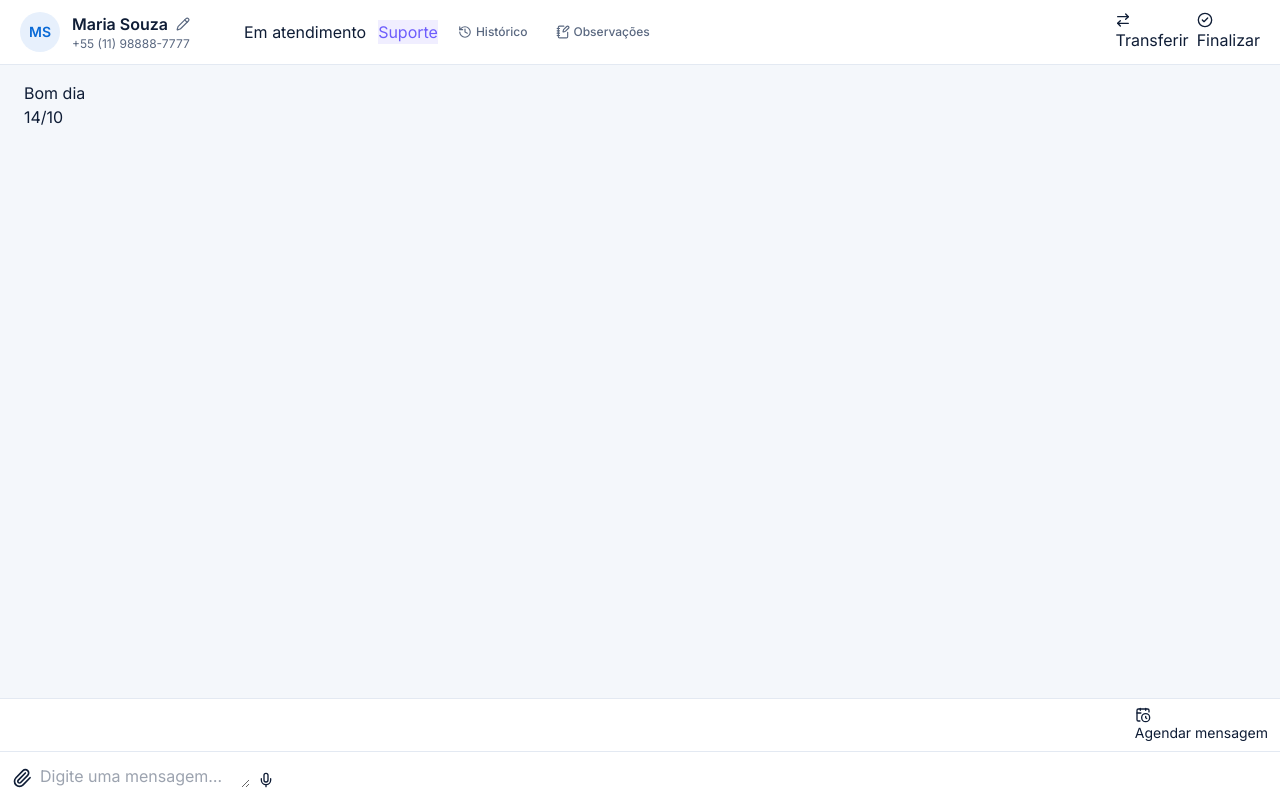
Test case: ChatPanel › marks a failed send and lets the agent retry it
This screenshot has width=1280, height=800.
Check: the text "Bom dia" is shown, box [24,83,85,103]
Type "Teste" into the text box labelled "mensagem".
click(145, 776); type("Teste")  # box [40,764,250,788]
Then press Enter
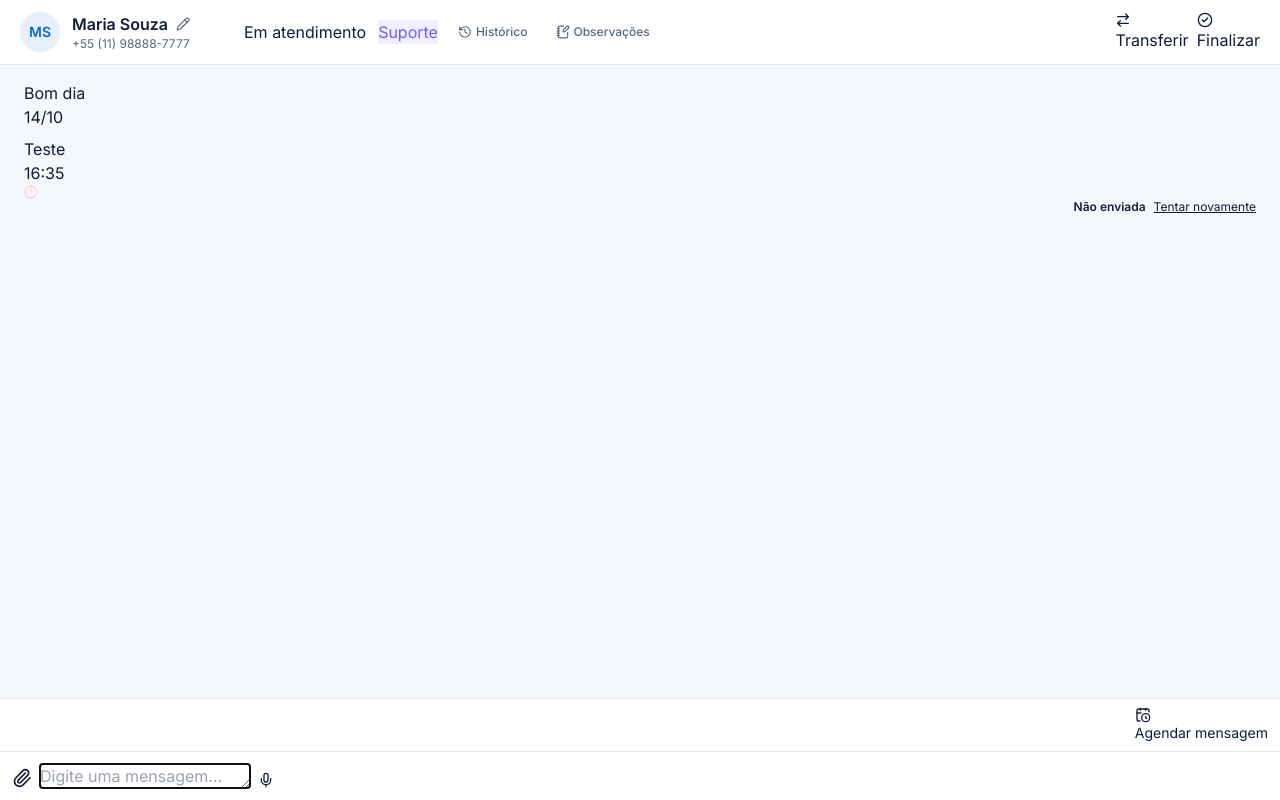
Check: the text "Não enviada" is shown, box [1074,199,1146,215]
Click the button "Tentar novamente".
click(1205, 207)  # box [1154,199,1256,215]
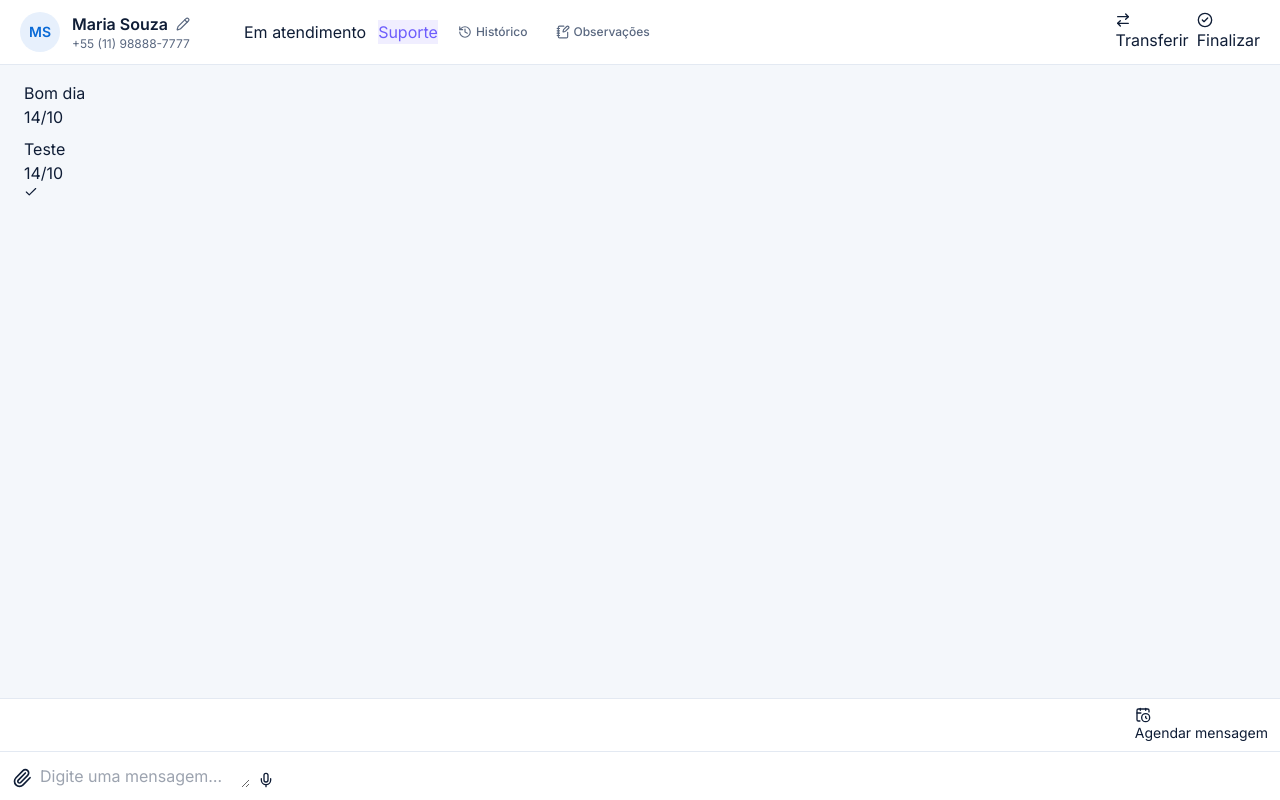
Check: the text "Teste" is shown once, box [24,139,65,159]
Check: the text "Não enviada" is gone
